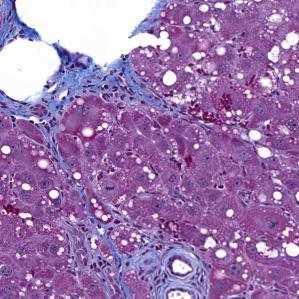fibrosis: (80, 218, 172, 282), (52, 57, 136, 106)
